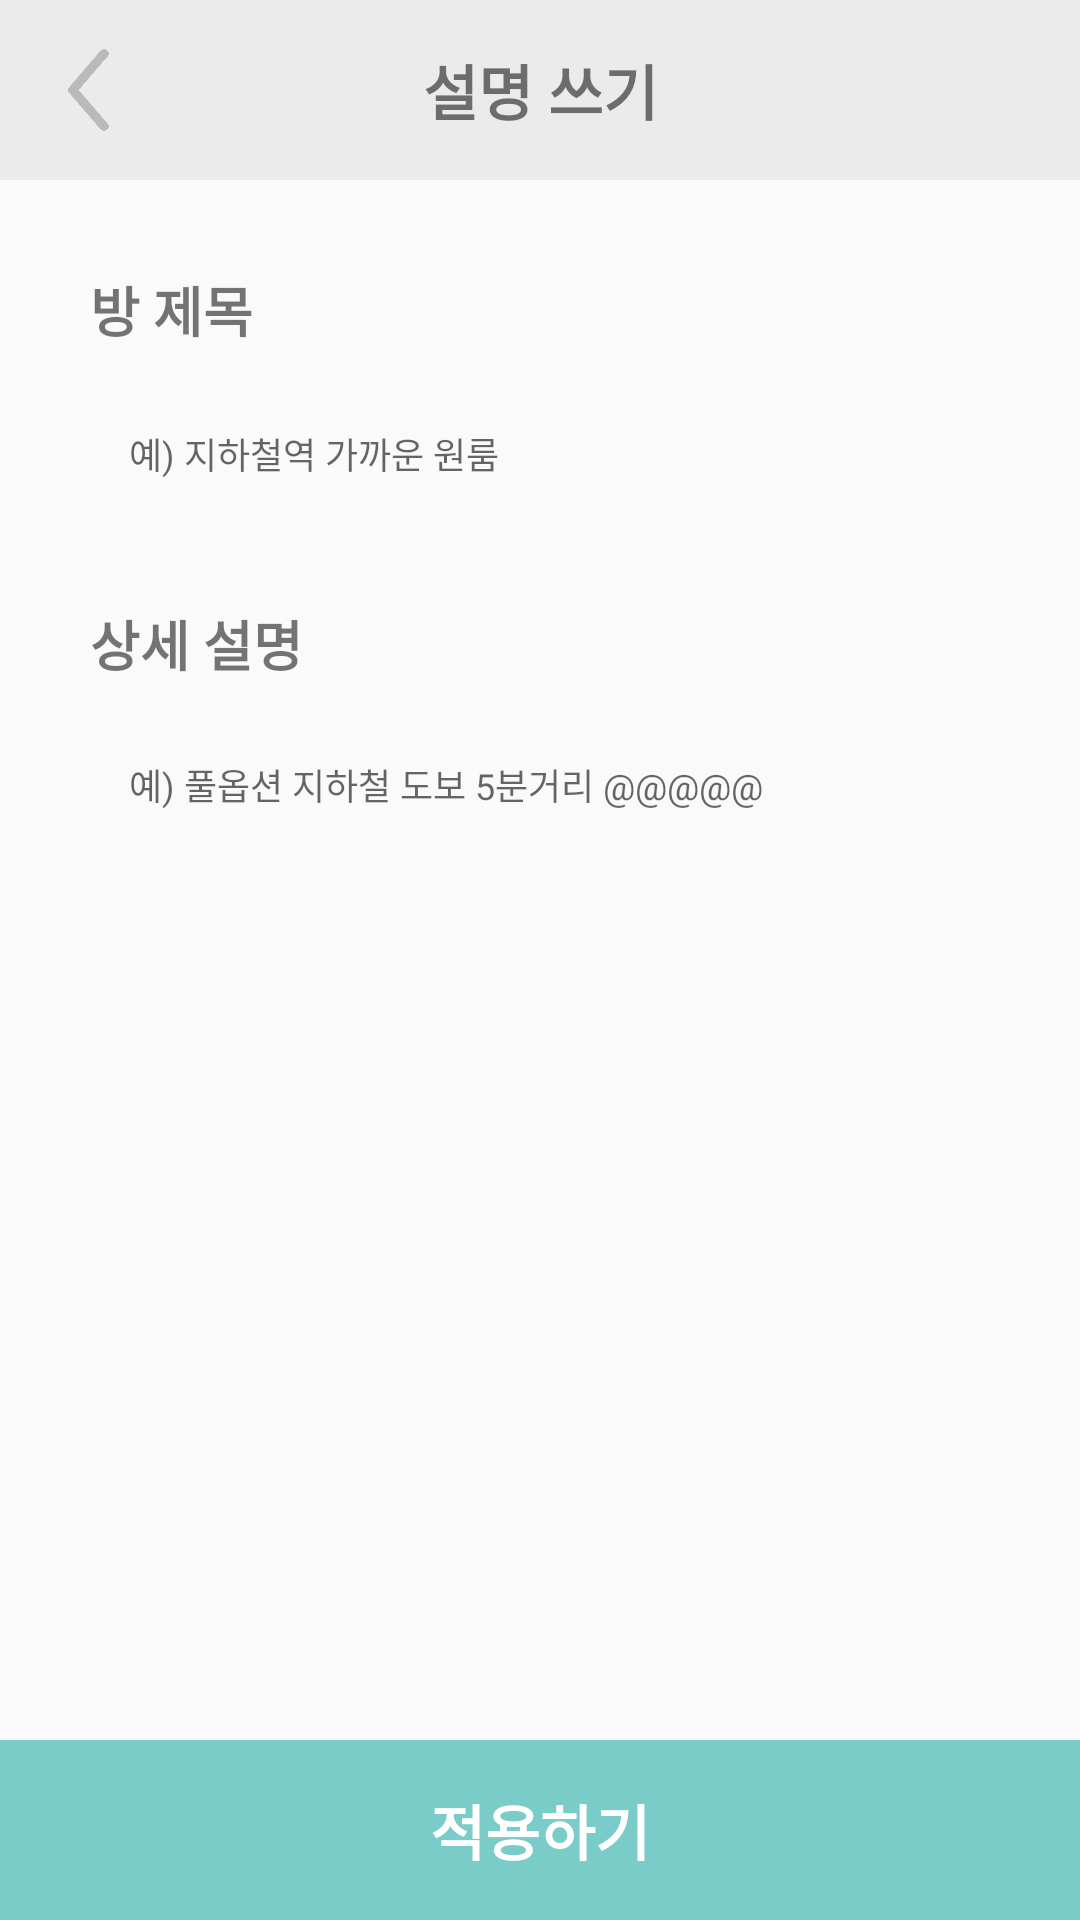

Icon bounding boxes for this 1080×1920 phone screenshot, format (x1, y1, x2, y2):
back: (68, 49, 109, 131)
